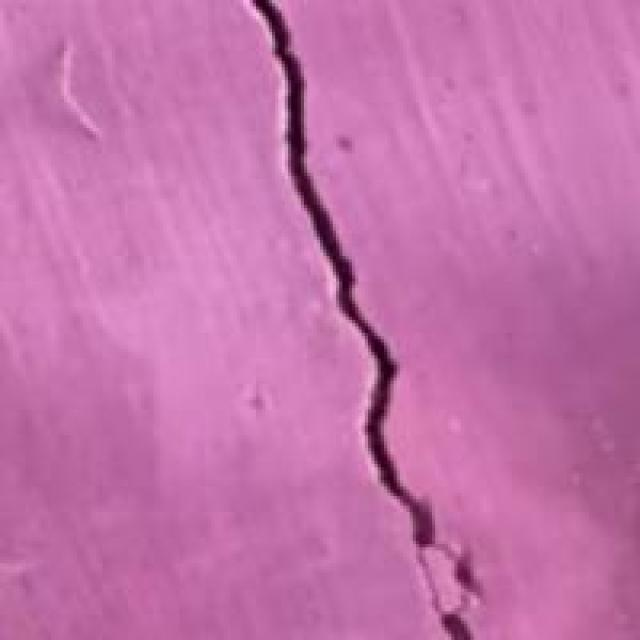crack: (214, 3, 496, 637)
